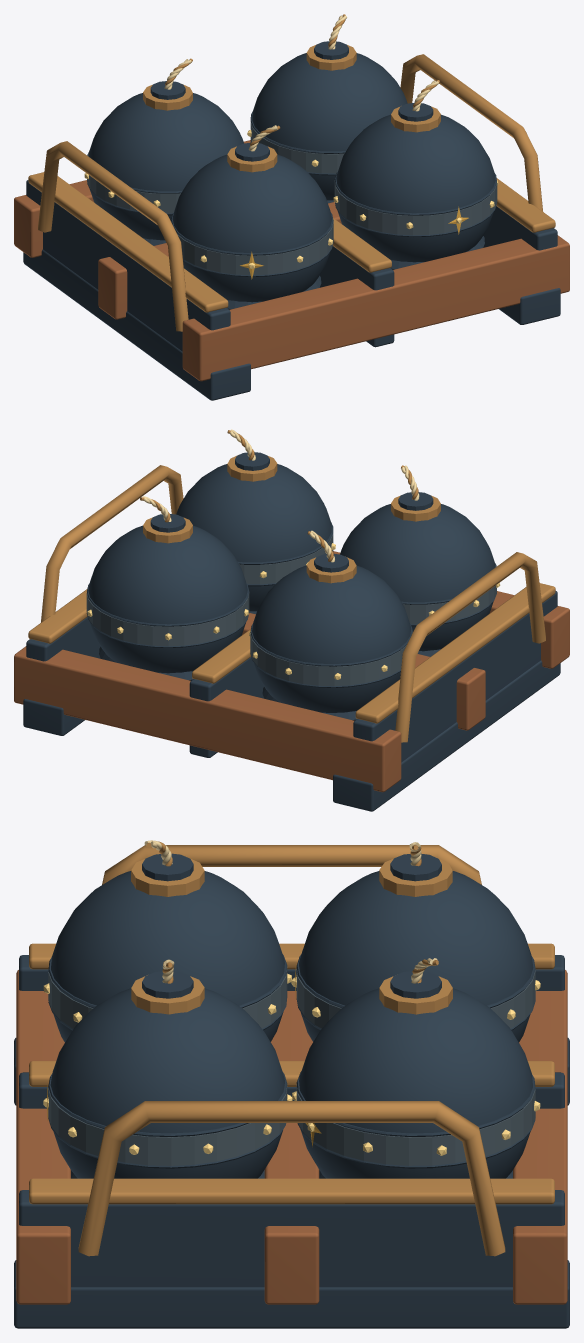
File: bomb_pile.glb
3 views of the same model, one above another, from view 1: azimuth 30°, elevation 25°; view 2: azimuth 150°, elevation 25°; view 3: azimuth 270°, elevation 25° (orthographic). The views are drawn at different scales.
Parts seen in each view (by area): view 1: bomb_pile; view 2: bomb_pile; view 3: bomb_pile.
Part boxes in pixels (x1,y1,x2,y2): bomb_pile: [14, 14, 569, 400]; bomb_pile: [14, 429, 569, 811]; bomb_pile: [14, 840, 569, 1328].
Bounding box in the file's own units: 1.27 × 0.7048 × 1.12.
